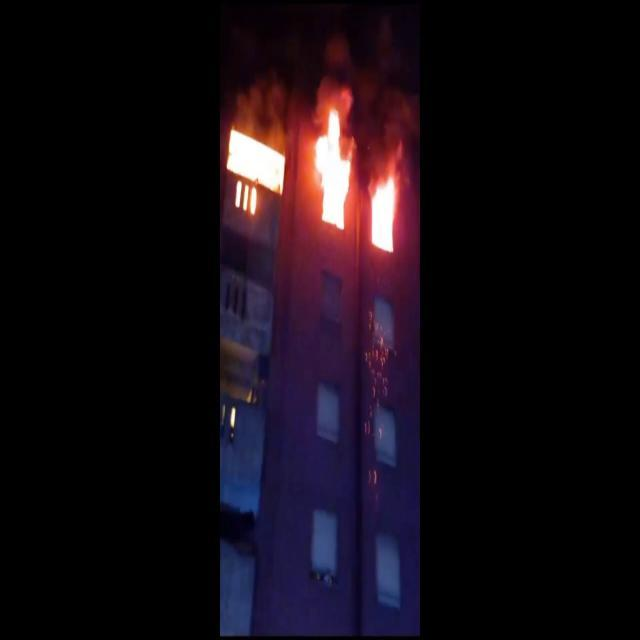Fire: (308, 95, 358, 236), (223, 119, 287, 216), (368, 164, 401, 258)
